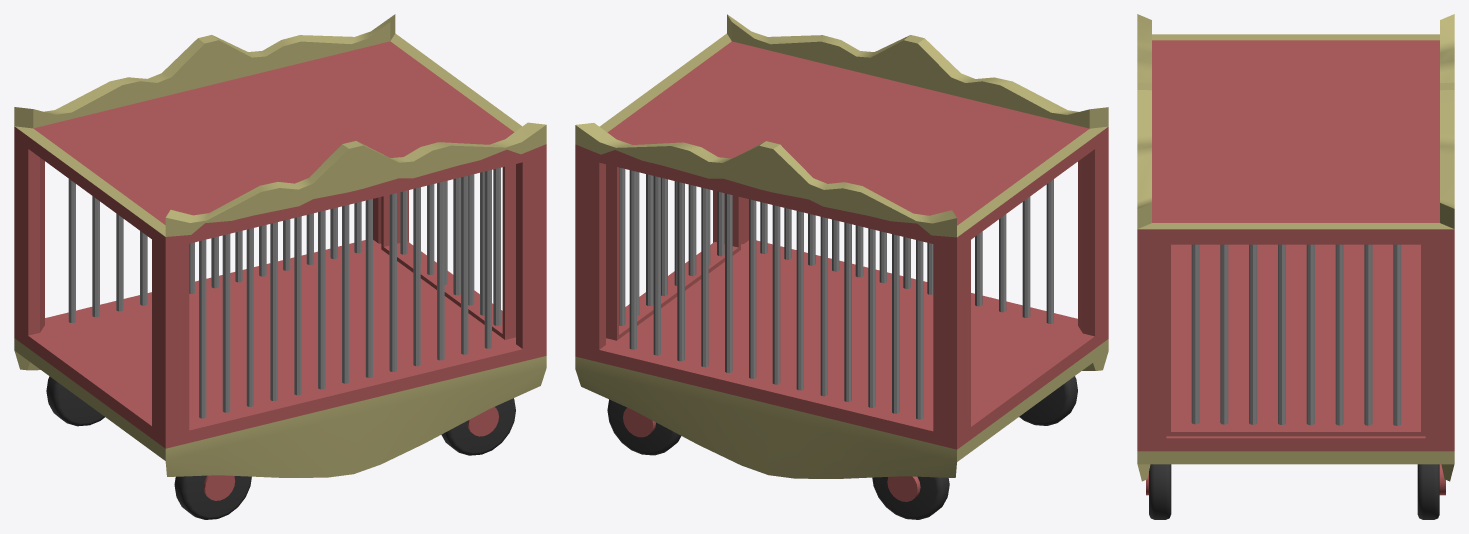
The model's file is CircusCart_Closed.fbx.
3 renders of one model, left to right at view 1: azimuth 30°, elevation 25°; view 2: azimuth 150°, elevation 25°; view 3: azimuth 270°, elevation 25°, orthographic. The views are drawn at different scales.
Visible parts, largest first — view 1: CartClosed; view 2: CartClosed; view 3: CartClosed.
Part boxes in pixels (x1,y1,x2,y2): CartClosed: [14, 14, 546, 519]; CartClosed: [575, 14, 1108, 519]; CartClosed: [1137, 14, 1454, 519].
Bounding box in the file's own units: 3.2 × 2.78 × 2.2.
